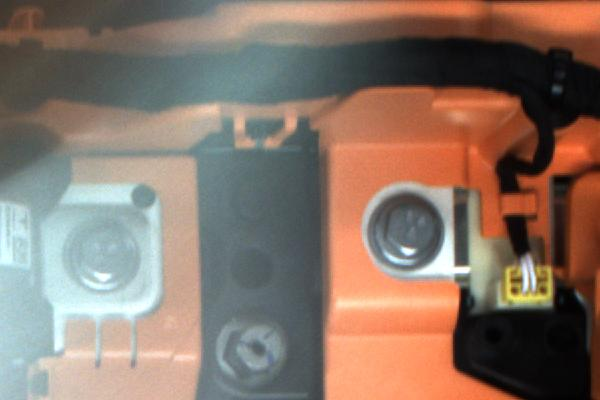nut_b: (356, 184, 450, 274), (52, 212, 150, 295)
